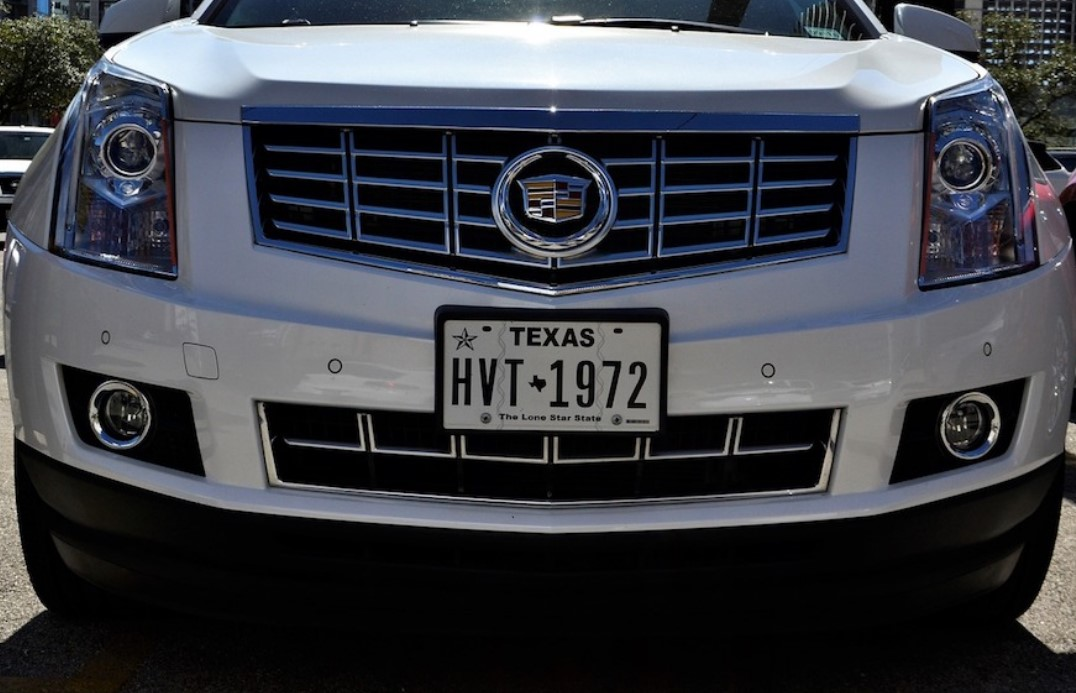LicensePlate: (440, 315, 663, 433)
